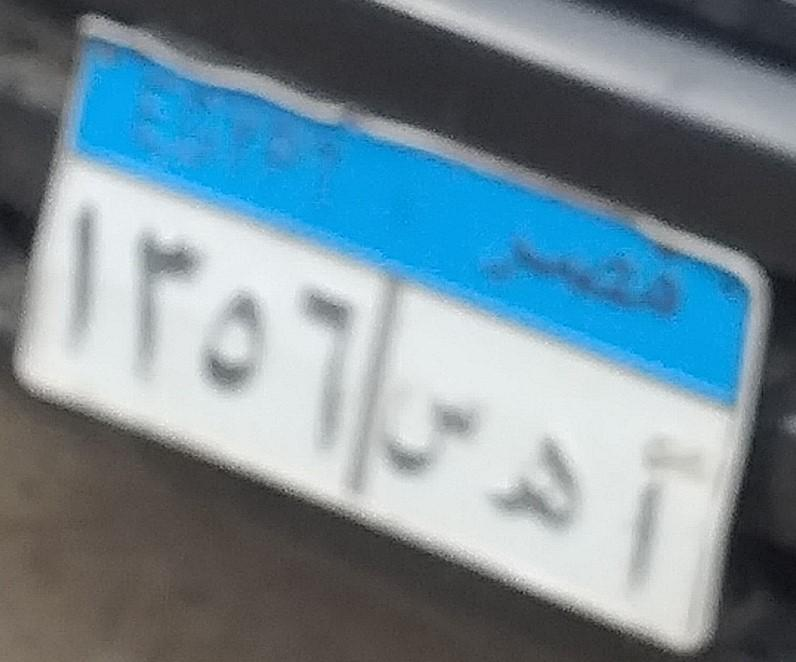1: (70, 201, 103, 358)
3: (113, 234, 199, 394)
5: (196, 284, 274, 408)
6: (284, 279, 370, 459)
alif: (609, 439, 695, 594)
haa: (490, 426, 591, 545)
seen: (368, 395, 488, 490)
